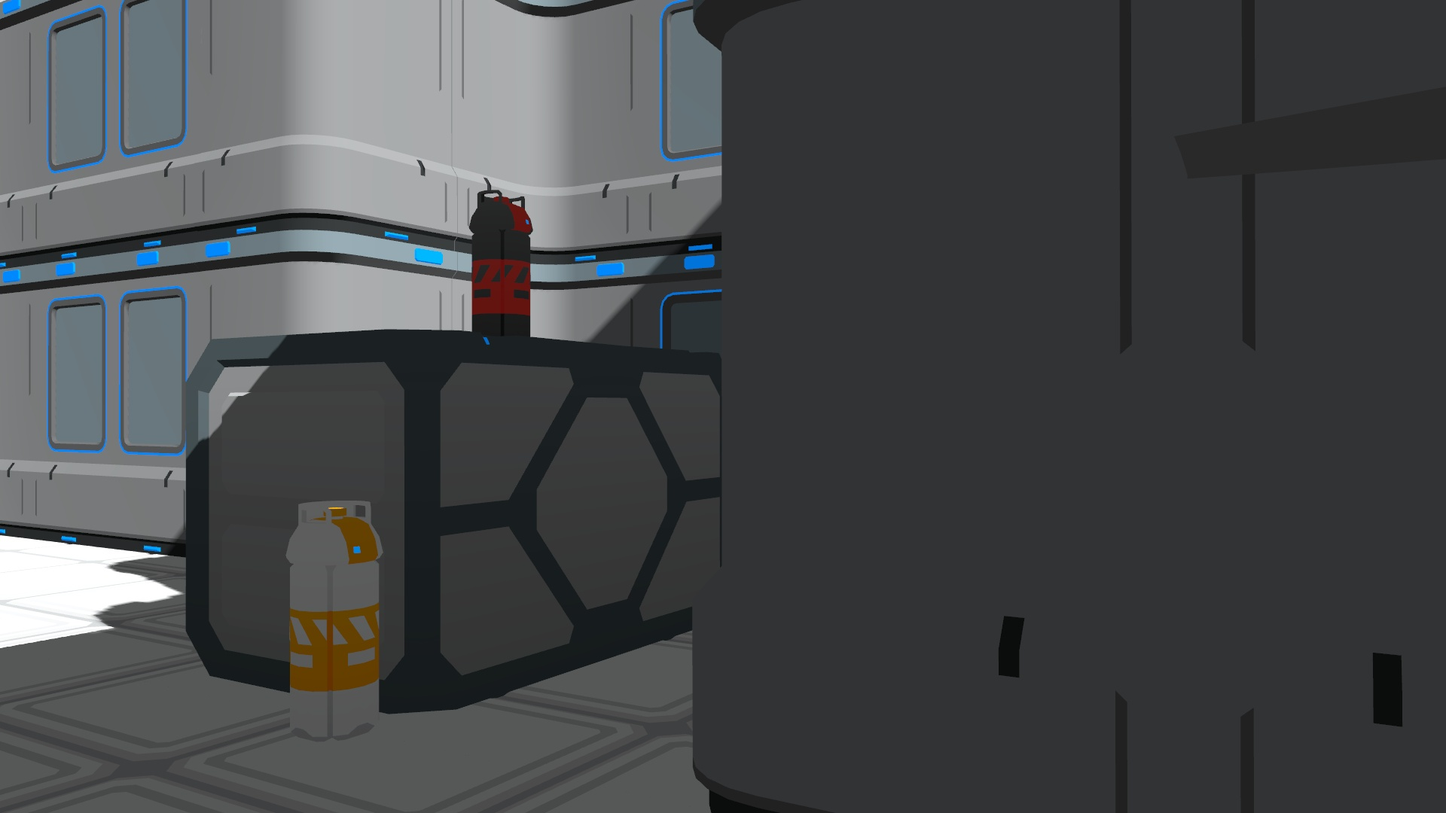red_barrel: (471, 183, 537, 341)
yellow_barrel: (284, 493, 381, 744)
